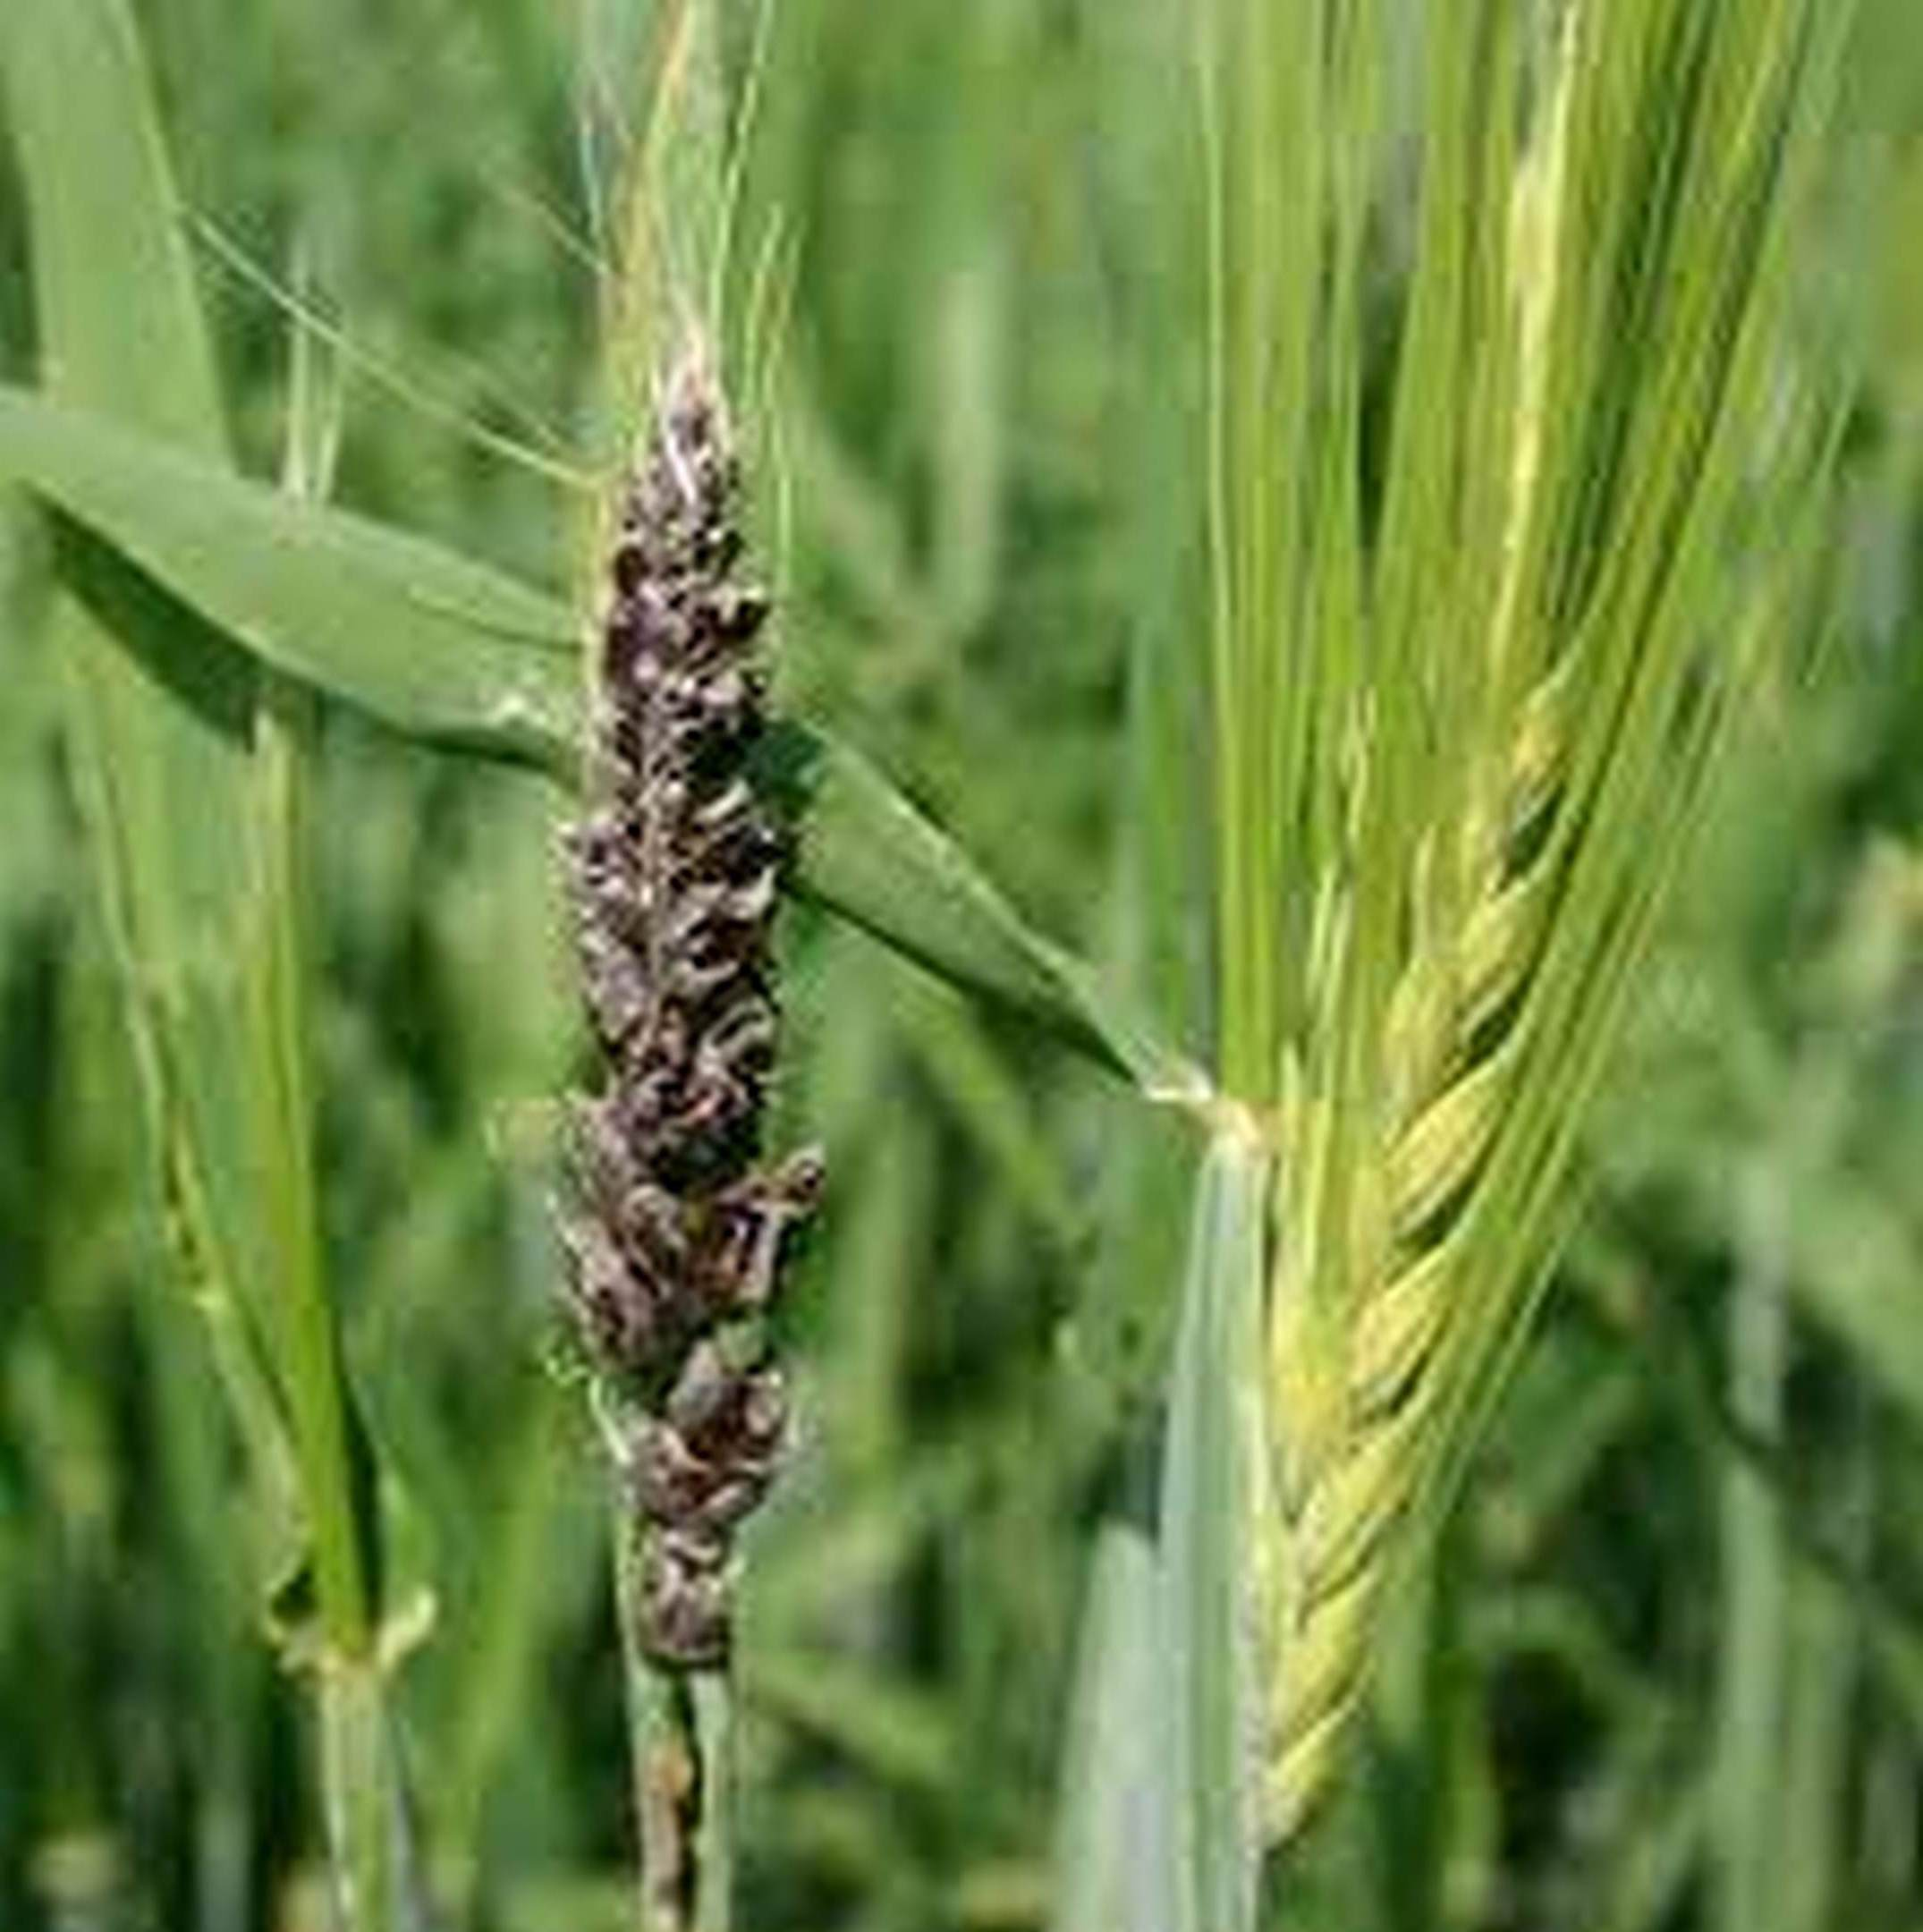Wheat Loose Smut: (514, 375, 835, 1587)
